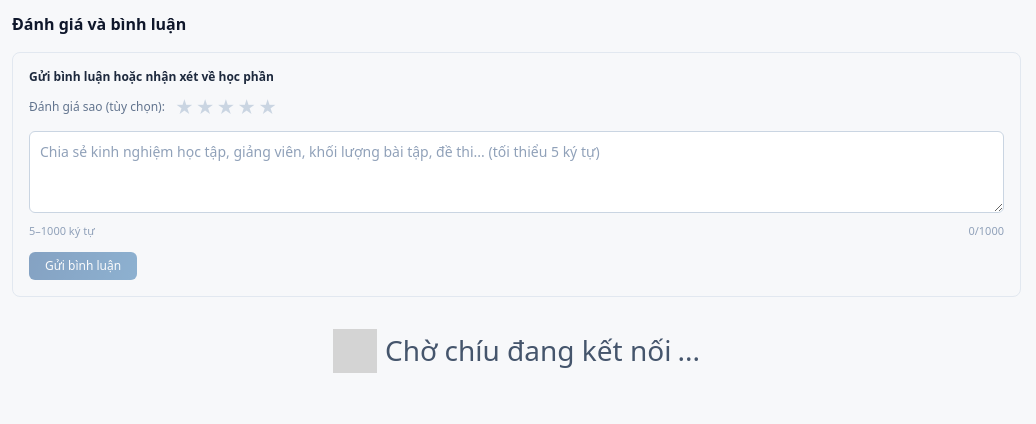
Test: ModuleReviews — tên hiển thị của bình luận › báo là ẩn danh khi đã đăng nhập nhưng chưa đặt biệt danh
The image size is (1036, 424).
What coordinates should you click on to do the following:
click the button "Gửi bình luận"
I would click on:
 (83, 266)
Its box is x1=29 y1=252 x2=137 y2=280.
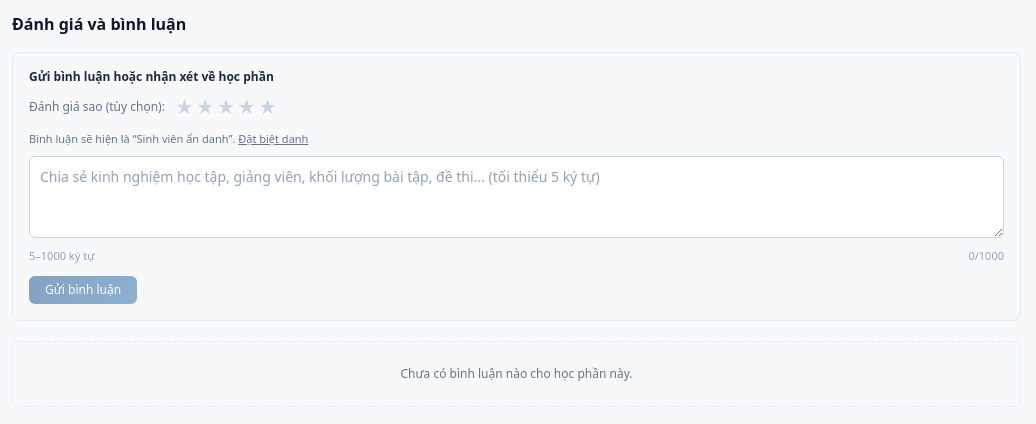
Result: the element with test id "comment-posting-as" shows "Bình luận sẽ hiện là “Sinh viên ẩn danh”." at x1=29 y1=131 x2=235 y2=146
